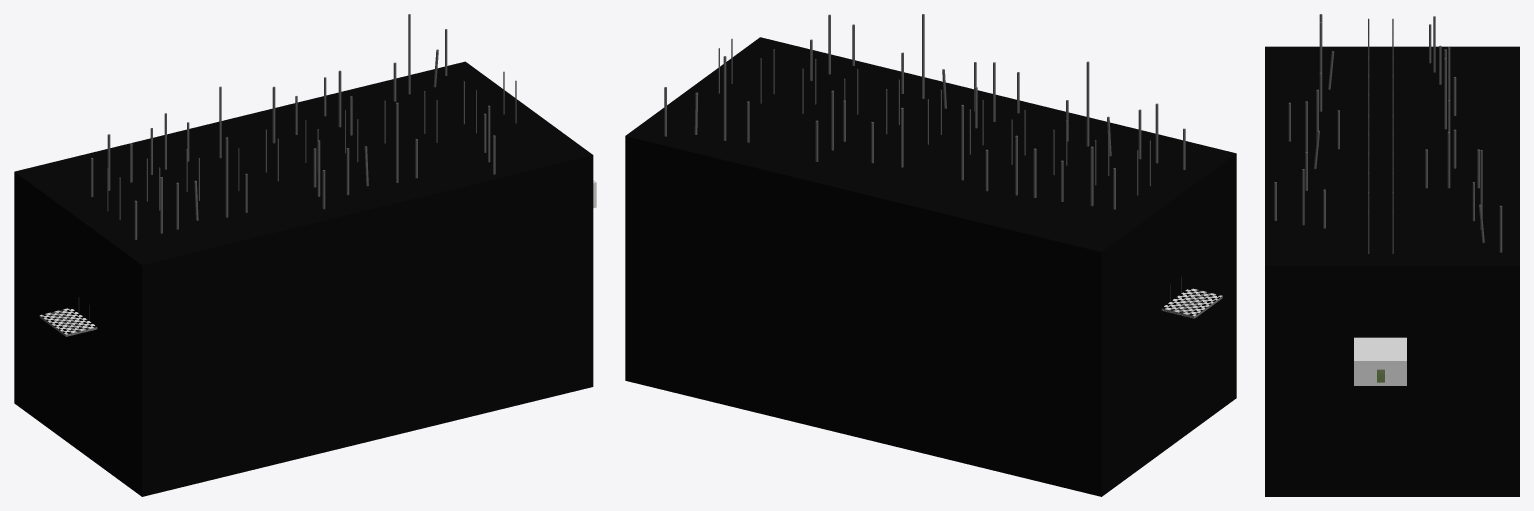
File: eyes.fbx
3 renders of one model, left to right at view 1: azimuth 30°, elevation 25°; view 2: azimuth 150°, elevation 25°; view 3: azimuth 270°, elevation 25°, orthographic. The views are drawn at different scales.
Visible parts, largest first — view 1: Cube.002, Cylinder, Cube.072; view 2: Cube.002, Cylinder, Cube.072; view 3: Cube.002, Cube, Cylinder.
Part boxes in pixels (box(x1,y1,x2,y2)): Cube.002: box(14, 61, 593, 496); Cylinder: box(107, 71, 516, 219); Cube.072: box(39, 307, 97, 336); Cube.002: box(625, 37, 1236, 496); Cylinder: box(718, 38, 1150, 195); Cube.072: box(1161, 287, 1222, 318); Cube.002: box(1265, 46, 1519, 496); Cube: box(1354, 337, 1406, 385); Cylinder: box(1368, 18, 1393, 253).
Size of the model in its own units: 6197 by 3470 by 2584.
